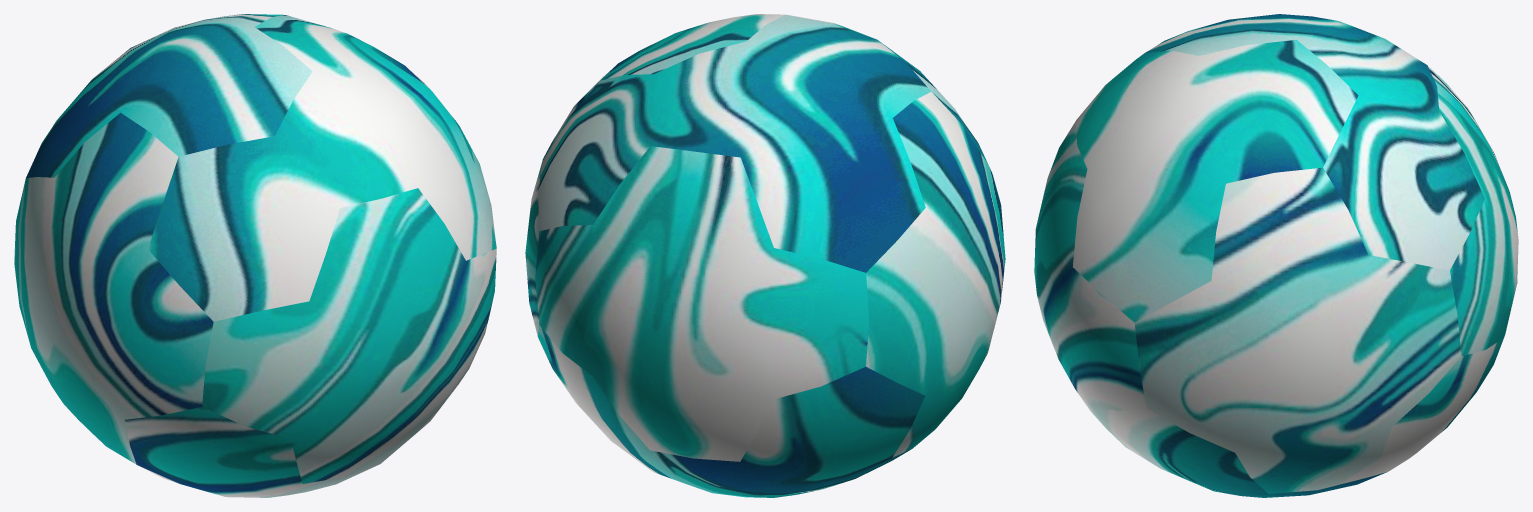
Rendered from ball.glb.
3 views of the same model, side by side, from view 1: azimuth 30°, elevation 25°; view 2: azimuth 150°, elevation 25°; view 3: azimuth 270°, elevation 25° (orthographic).
Parts seen in each view (by area): view 1: ball; view 2: ball; view 3: ball.
Boxes of the visible parts, x1,y1,x2,y2 form: ball: (14, 14, 496, 497); ball: (525, 14, 1005, 497); ball: (1034, 14, 1518, 497).
Size of the model in its own units: 0.2923 by 0.2956 by 0.2938.
Materials: 1 (1 with a texture image).
